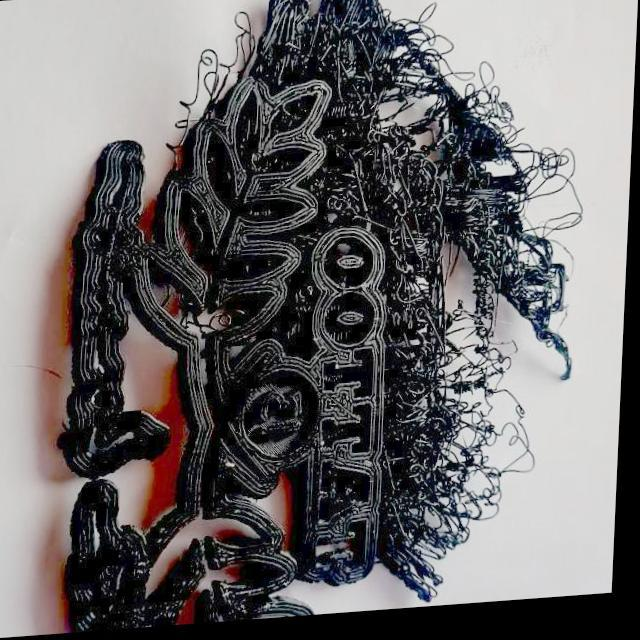spaghetti: (402, 349, 519, 543), (451, 166, 531, 294), (319, 24, 400, 123), (398, 16, 455, 121), (331, 122, 393, 203), (382, 166, 440, 251), (396, 526, 458, 605), (516, 143, 582, 215), (473, 86, 520, 160), (196, 43, 247, 108)
